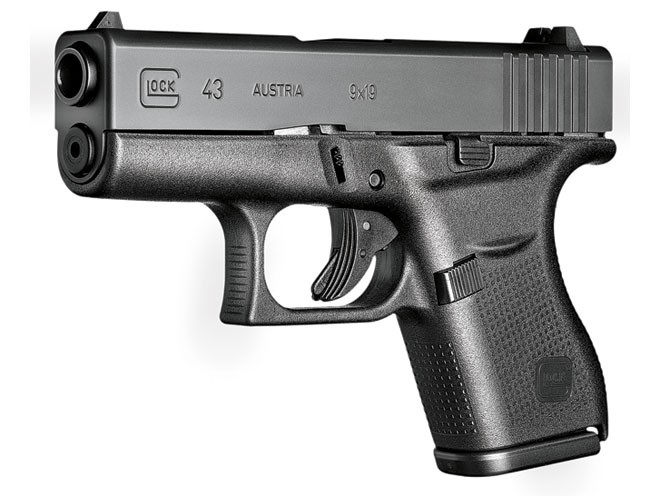gun: (60, 16, 627, 477)
